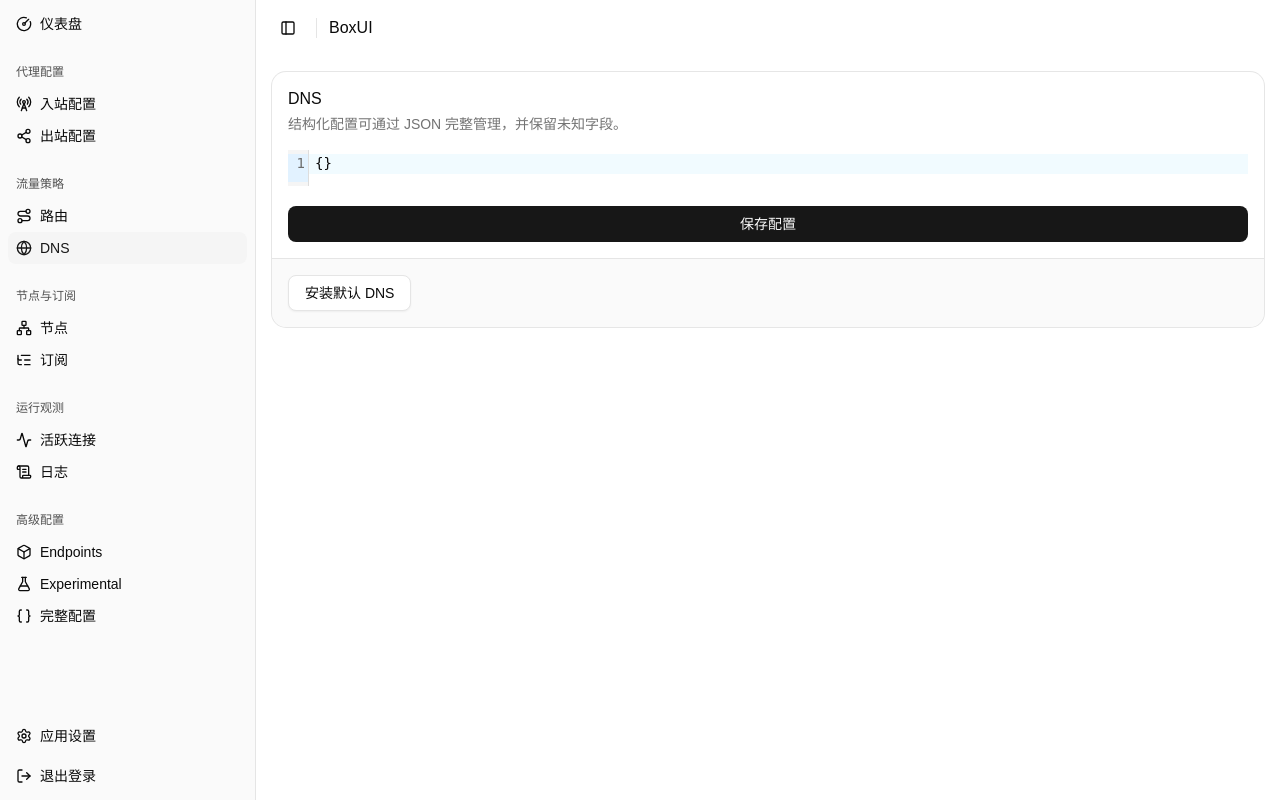
Test: policy alternate states › reports default installer failures
Click the button "安装默认 DNS". click: (350, 293)
box: [288,275,412,311]
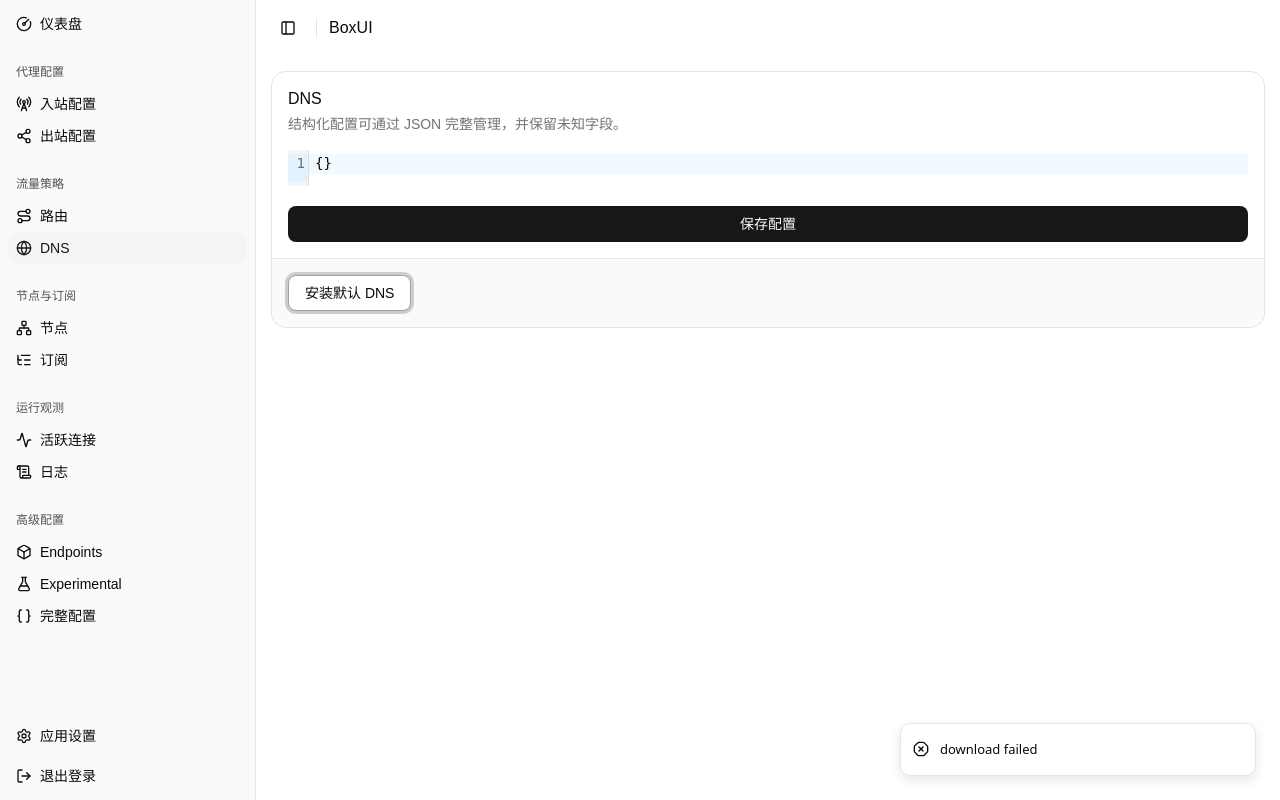
Now the text "download failed" is shown, box [940,740,1038,759]
